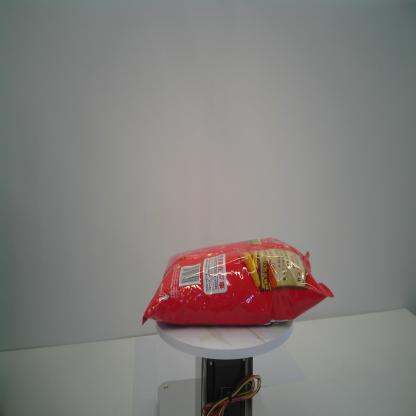Puffed Food: (142, 236, 334, 328)
